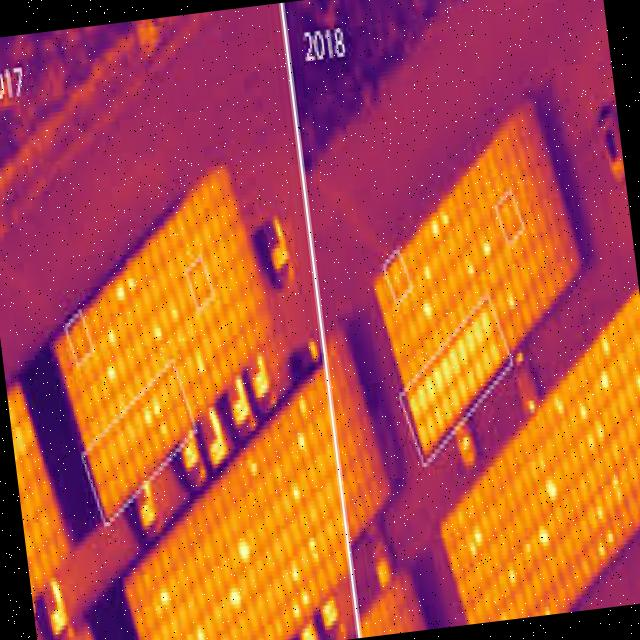Hotspot: (406, 306, 503, 414), (404, 390, 425, 428), (234, 528, 253, 566), (594, 363, 614, 399), (550, 389, 568, 426), (597, 330, 616, 364), (534, 520, 554, 552), (608, 471, 624, 508), (417, 294, 436, 322), (292, 428, 312, 454), (592, 415, 608, 447), (477, 234, 496, 260), (294, 392, 310, 422), (150, 318, 166, 346), (504, 288, 518, 318), (192, 344, 208, 370), (542, 476, 558, 502), (105, 359, 120, 386), (574, 399, 590, 424), (438, 204, 452, 232), (428, 216, 443, 242), (156, 586, 172, 610), (420, 262, 436, 286), (190, 618, 207, 640), (288, 596, 302, 622), (103, 323, 118, 347), (463, 258, 478, 282), (228, 588, 244, 609), (126, 266, 138, 294), (592, 497, 606, 521), (506, 562, 518, 589), (473, 523, 485, 550), (113, 281, 128, 302), (290, 561, 302, 587), (249, 459, 261, 484), (150, 390, 162, 414), (584, 430, 596, 454), (466, 536, 479, 558), (594, 540, 608, 560), (168, 304, 182, 324), (604, 526, 616, 546), (156, 419, 169, 436), (142, 407, 153, 427), (306, 536, 319, 552), (291, 484, 300, 506), (299, 592, 311, 608), (632, 372, 640, 396), (542, 600, 553, 615), (524, 538, 532, 558)
